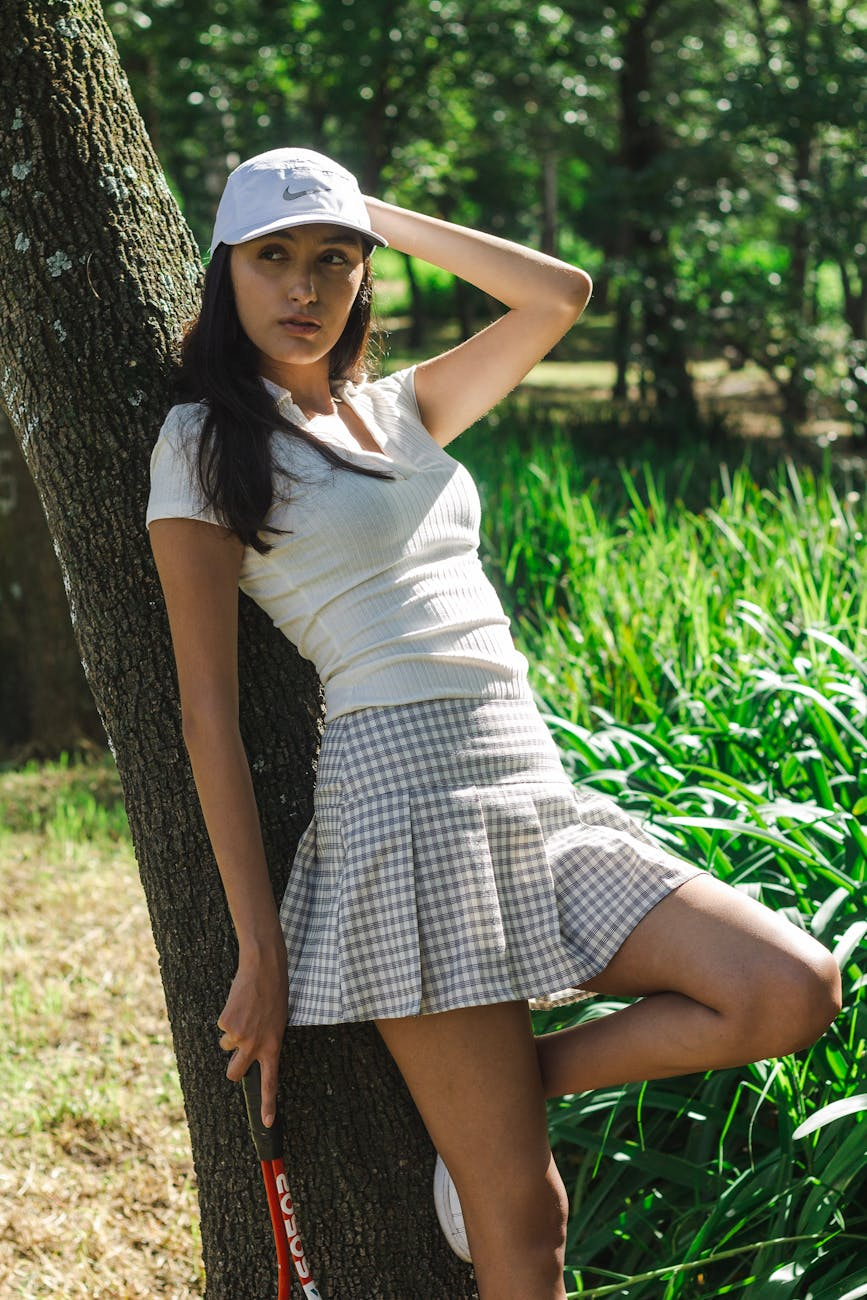short_medium_skirt: (267, 687, 706, 1022)
